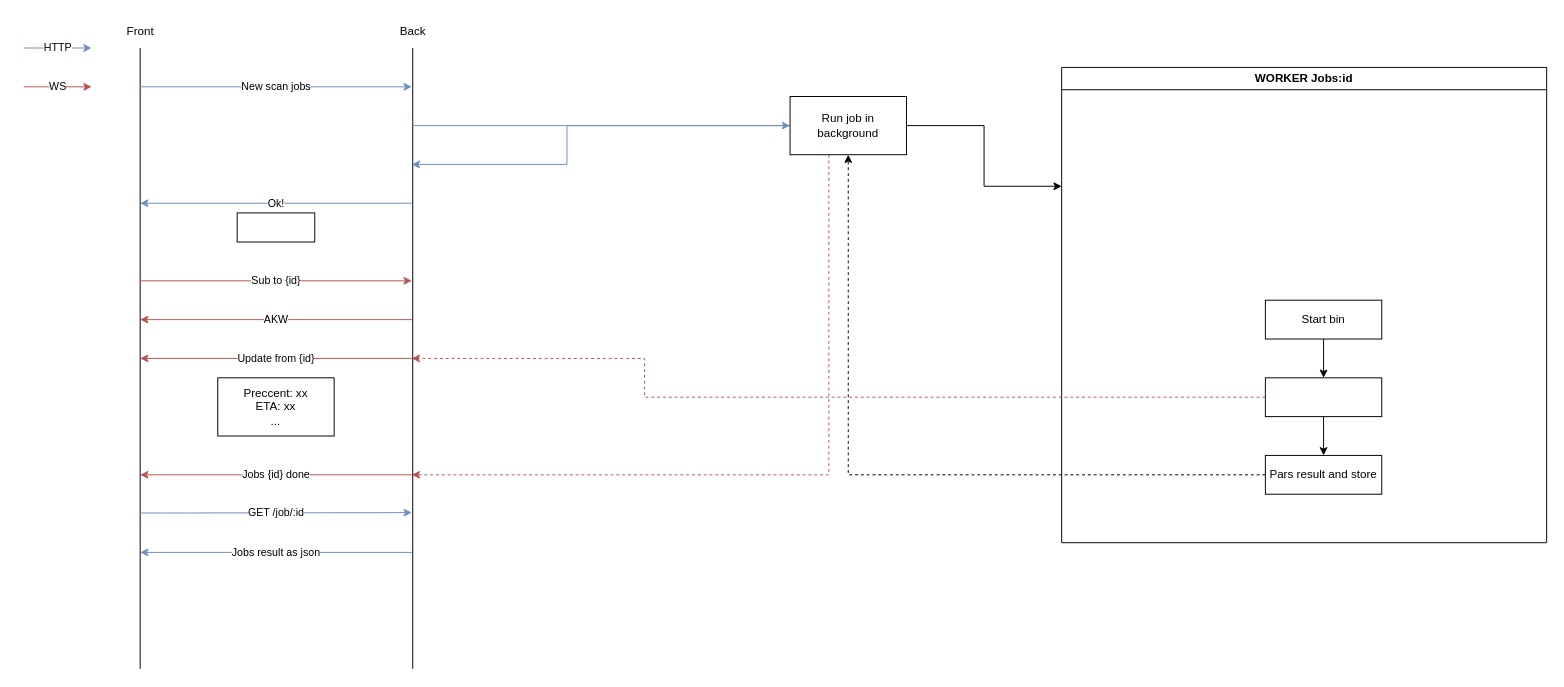
The diagram is 1564 pixels wide and 687 high, and some of its shapes have lost their labels. The centre of each missing label's shape, as x and y in pixels:
Jobs: id: the point at 275,227
Watch progress: the point at 1323,397
